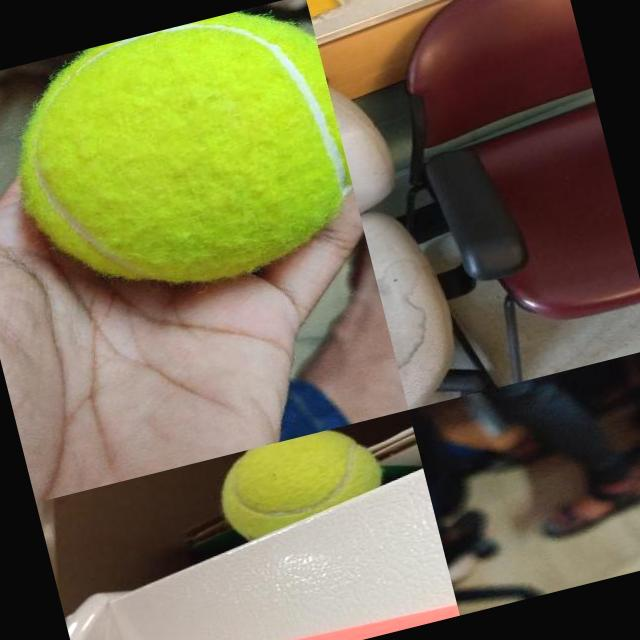tennis-ball: (0, 0, 365, 320), (207, 419, 386, 524)
